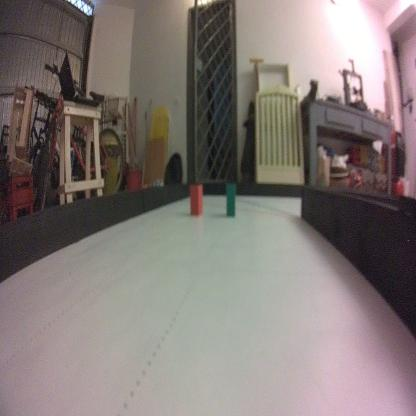green: (224, 181, 238, 219)
red: (189, 182, 203, 219)
